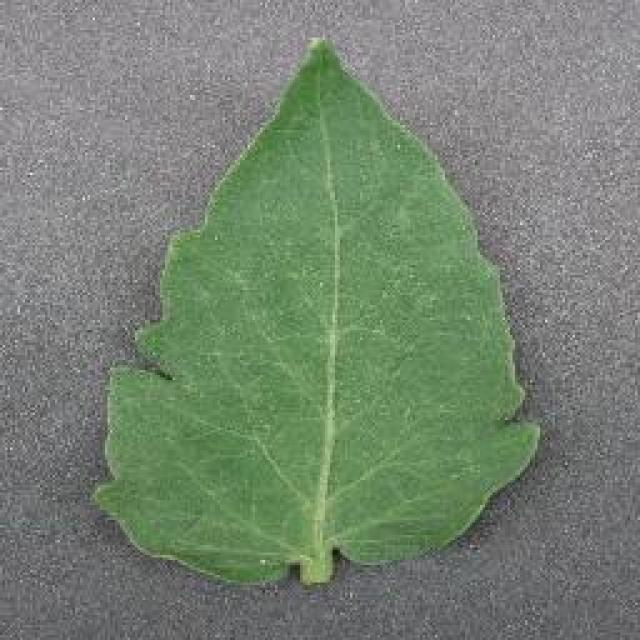Tomato healthy leaf: (92, 29, 538, 584)
